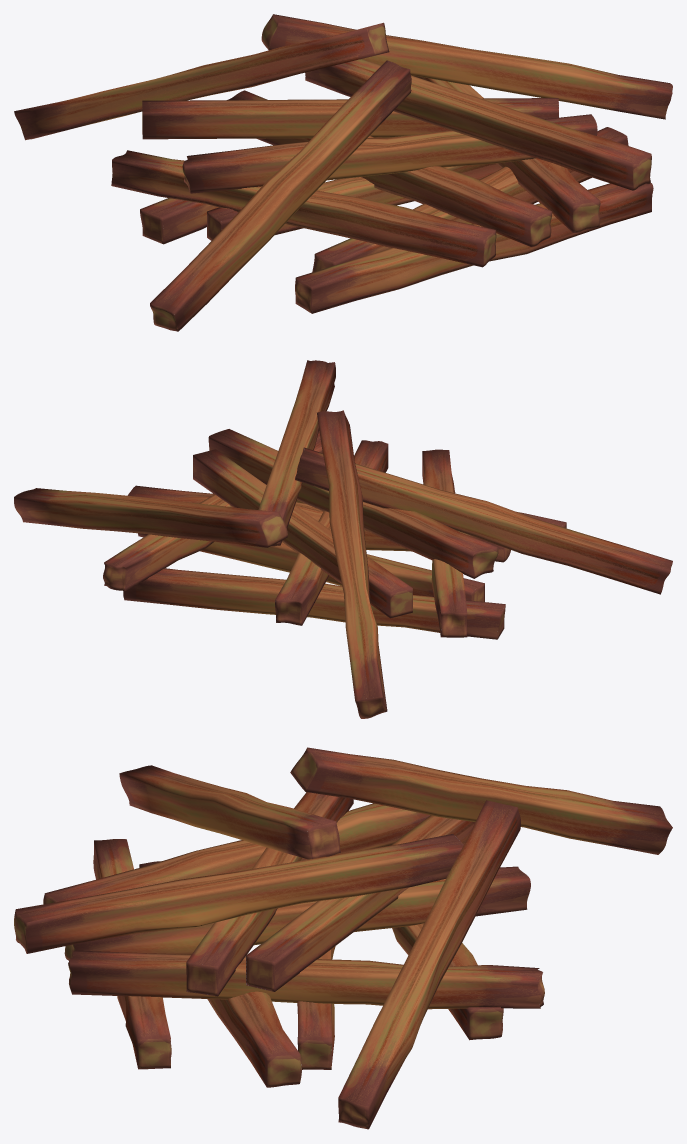
The model's file is PileWood.fbx.
3 views of the same model, one above another, from view 1: azimuth 30°, elevation 25°; view 2: azimuth 150°, elevation 25°; view 3: azimuth 270°, elevation 25° (orthographic). The views are drawn at different scales.
Parts seen in each view (by area): view 1: Wood.009, Wood.010, Wood.001, Wood.012, Wood.011, Wood.007, Wood.008, Wood.006, Wood.004, Wood.003, Wood.002, Wood (+1 smaller); view 2: Wood.009, Wood.010, Wood.011, Wood.005, Wood.007, Wood.008, Wood.012, Wood.003, Wood.001, Wood.004, Wood, Wood.002; view 3: Wood.012, Wood.011, Wood.003, Wood.010, Wood.009, Wood.008, Wood.001, Wood.004, Wood.007, Wood.002, Wood.006, Wood (+1 smaller).
Part boxes in pixels (<box>): Wood.009: <box>150,60,411,331</box>; Wood.010: <box>261,14,672,119</box>; Wood.001: <box>111,150,496,267</box>; Wood.012: <box>305,59,651,190</box>; Wood.011: <box>14,22,389,140</box>; Wood.007: <box>182,114,597,193</box>; Wood.008: <box>142,98,558,139</box>; Wood.006: <box>295,183,653,313</box>; Wood.004: <box>227,90,552,246</box>; Wood.003: <box>412,75,600,232</box>; Wood.002: <box>312,127,628,272</box>; Wood: <box>207,163,500,240</box>; Wood.009: <box>295,447,672,594</box>; Wood.010: <box>14,488,287,547</box>; Wood.011: <box>317,410,387,718</box>; Wood.005: <box>123,568,505,639</box>; Wood.007: <box>208,429,498,578</box>; Wood.008: <box>193,449,412,618</box>; Wood.012: <box>258,360,335,546</box>; Wood.003: <box>103,430,322,591</box>; Wood.001: <box>422,449,467,637</box>; Wood.004: <box>275,440,388,625</box>; Wood: <box>138,533,484,601</box>; Wood.002: <box>128,485,510,562</box>; Wood.012: <box>14,834,463,953</box>; Wood.011: <box>290,747,672,854</box>; Wood.003: <box>68,950,544,1009</box>; Wood.010: <box>338,800,520,1129</box>; Wood.009: <box>119,765,340,859</box>; Wood.008: <box>246,815,474,991</box>; Wood.001: <box>43,803,429,904</box>; Wood.004: <box>64,866,530,960</box>; Wood.007: <box>186,792,353,996</box>; Wood.002: <box>139,861,301,1087</box>; Wood.006: <box>93,839,171,1069</box>; Wood: <box>297,946,335,1069</box>.
Size of the model in its own units: 233 by 67.92 by 190.
Materials: 13 (13 with a texture image).
